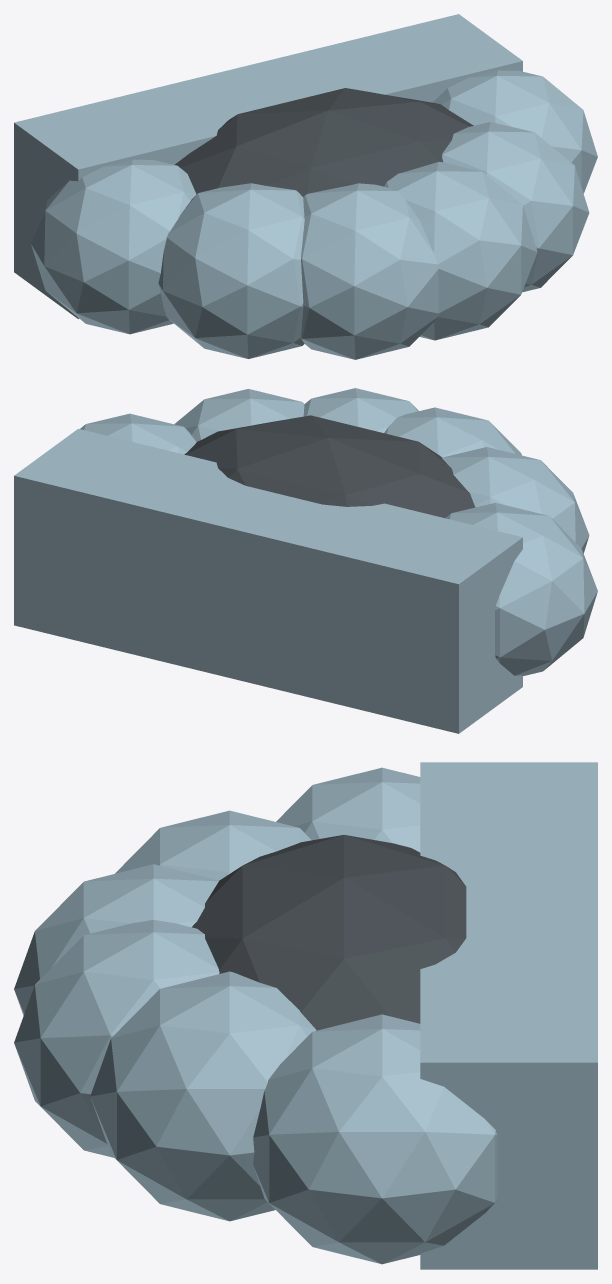
Rendered from ice_cave.glb.
3 views of the same model, one above another, from view 1: azimuth 30°, elevation 25°; view 2: azimuth 150°, elevation 25°; view 3: azimuth 270°, elevation 25° (orthographic). The views are drawn at different scales.
Visible parts, largest first — view 1: ice_cave_0, ice_cave_2, ice_cave_7, ice_cave_3, ice_cave_1, ice_cave_4, ice_cave_5, ice_cave_6; view 2: ice_cave_0, ice_cave_7, ice_cave_1, ice_cave_2, ice_cave_3, ice_cave_5, ice_cave_4, ice_cave_6; view 3: ice_cave_0, ice_cave_6, ice_cave_7, ice_cave_5, ice_cave_4, ice_cave_3, ice_cave_1, ice_cave_2.
Boxes of the visible parts, x1,y1,x2,y2 form: ice_cave_0: (14,14,522,319); ice_cave_2: (158,183,304,358); ice_cave_7: (175,88,473,196); ice_cave_3: (301,183,438,359); ice_cave_1: (31,159,196,334); ice_cave_4: (384,162,537,340); ice_cave_5: (441,122,589,292); ice_cave_6: (433,70,597,193); ice_cave_0: (14,428,522,733); ice_cave_7: (184,415,475,517); ice_cave_1: (445,502,597,675); ice_cave_2: (442,447,589,553); ice_cave_3: (384,407,521,457); ice_cave_5: (174,389,304,441); ice_cave_4: (303,388,418,432); ice_cave_6: (80,413,196,454); ice_cave_0: (420,762,597,1269); ice_cave_6: (253,1014,497,1264); ice_cave_7: (192,835,466,1030); ice_cave_5: (90,971,316,1221); ice_cave_4: (14,920,219,1157); ice_cave_3: (14,864,218,1015); ice_cave_1: (276,767,420,852); ice_cave_2: (115,810,311,880).
Bounding box in the file's own units: 3.4 × 1.1 × 2.3.
